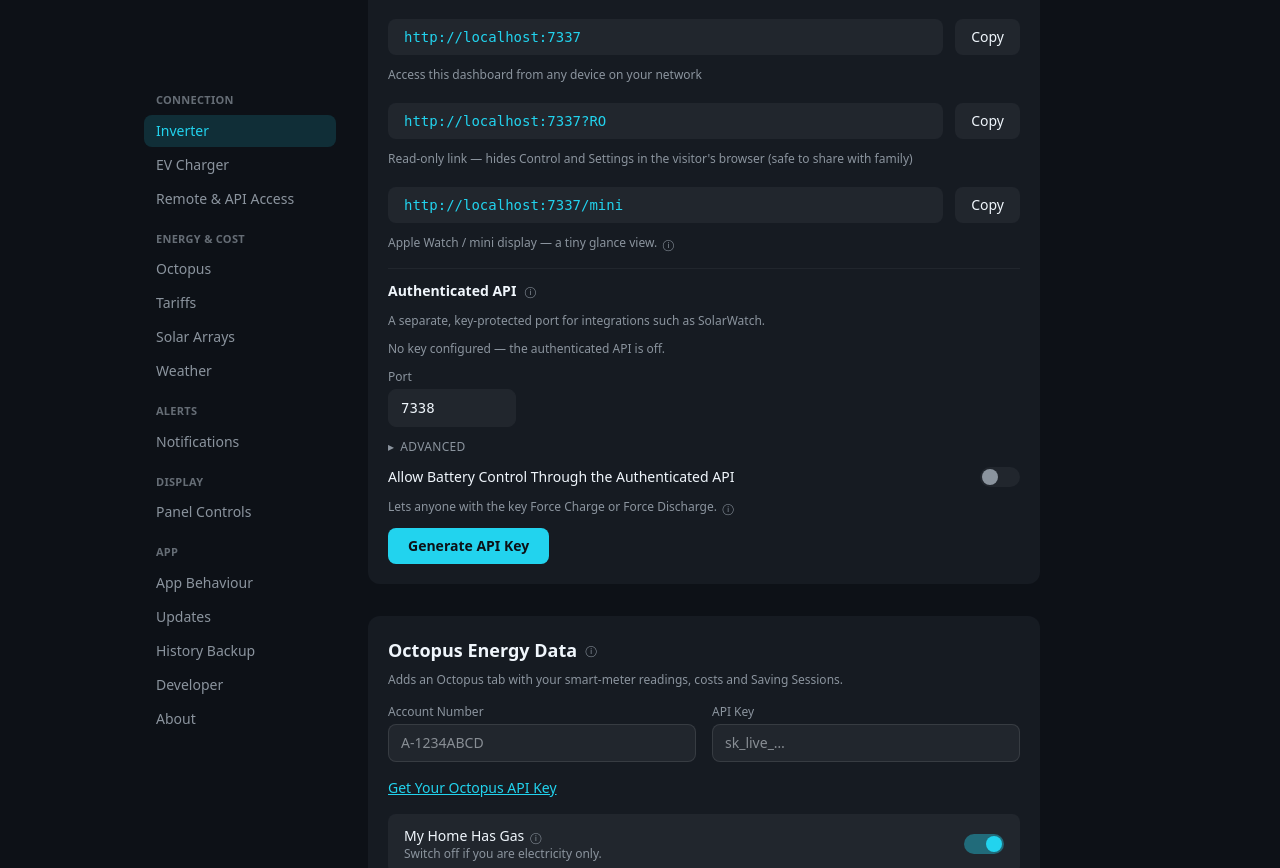
it: <SettingsPage/> — page shell & hydration › hydration › clamps an out-of-range poll interval to a valid step
The image size is (1280, 868).
(page scrolled)
Click the button "▸ Advanced" at x=427, y=447, box [388, 439, 466, 455]
(page scrolled)
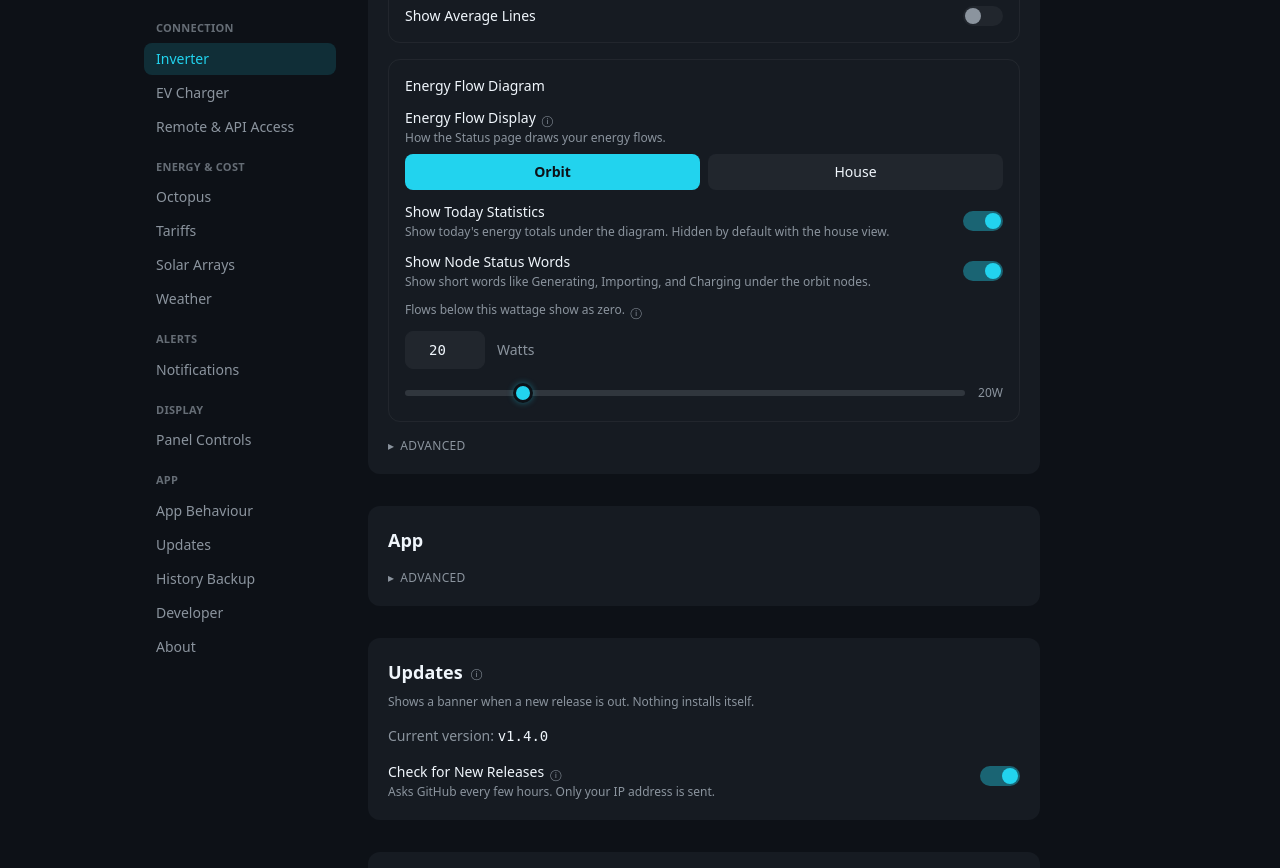
Click the button "▸ Advanced" below "Watts" at x=427, y=446, box [388, 438, 466, 454]
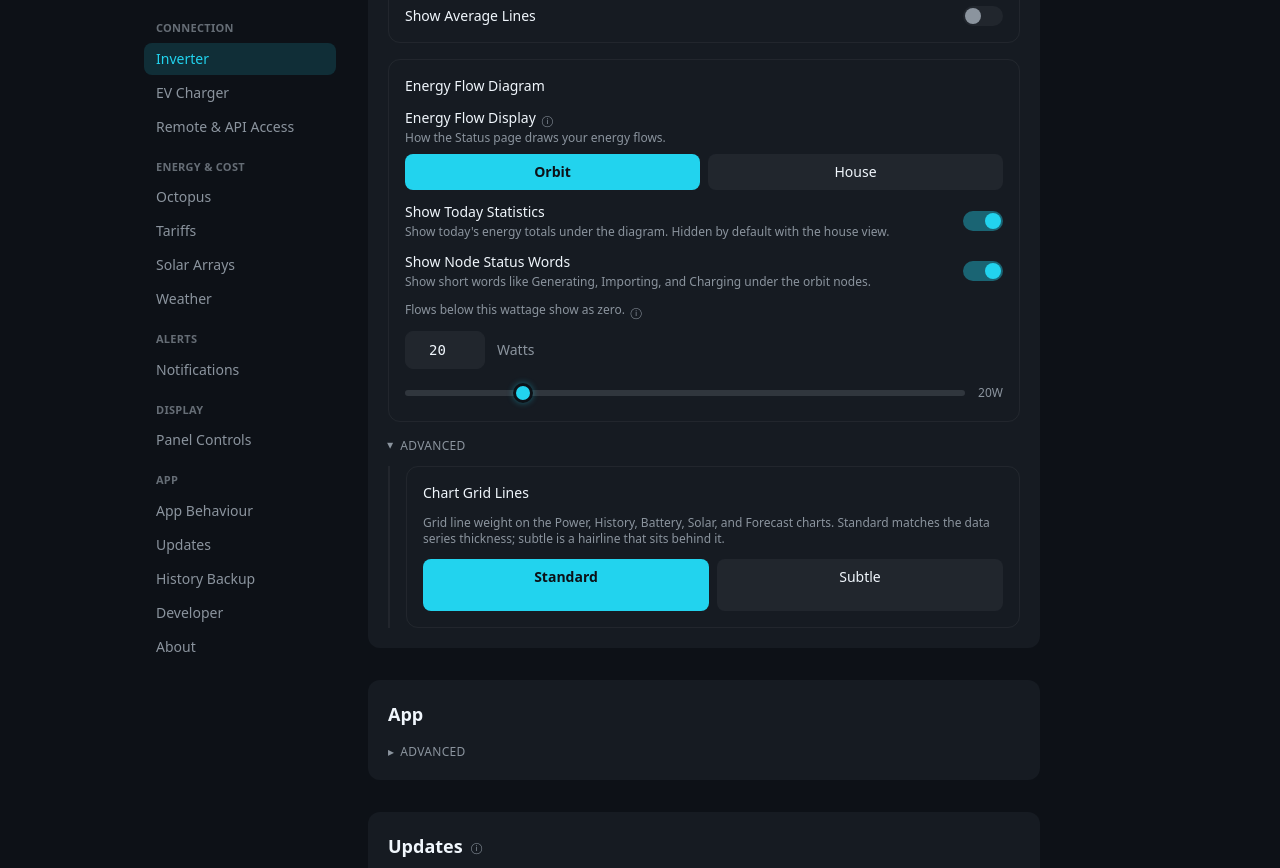
Click the 2nd button "▸ Advanced" at x=427, y=752, box [388, 744, 466, 760]
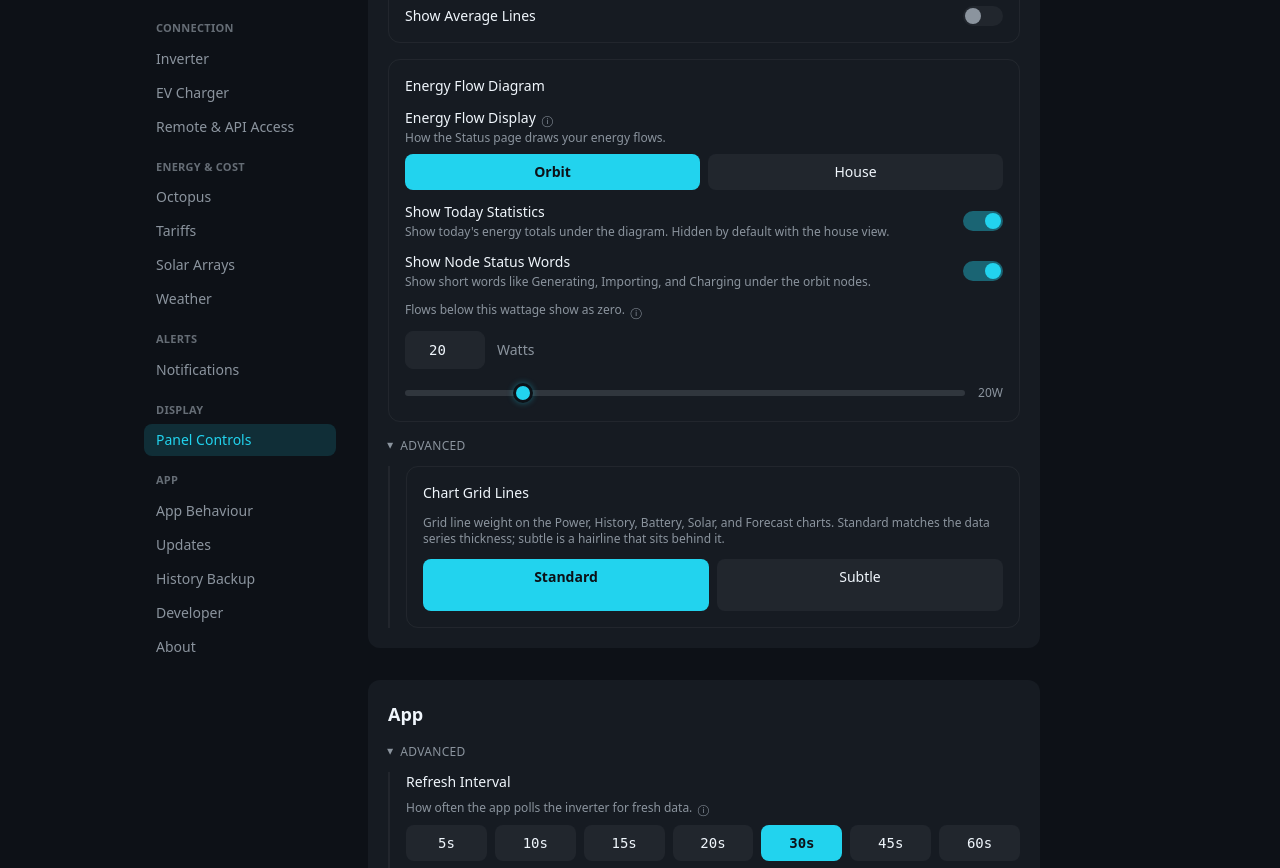
expect the text "Refresh Interval" is shown: met, box [406, 772, 510, 791]
